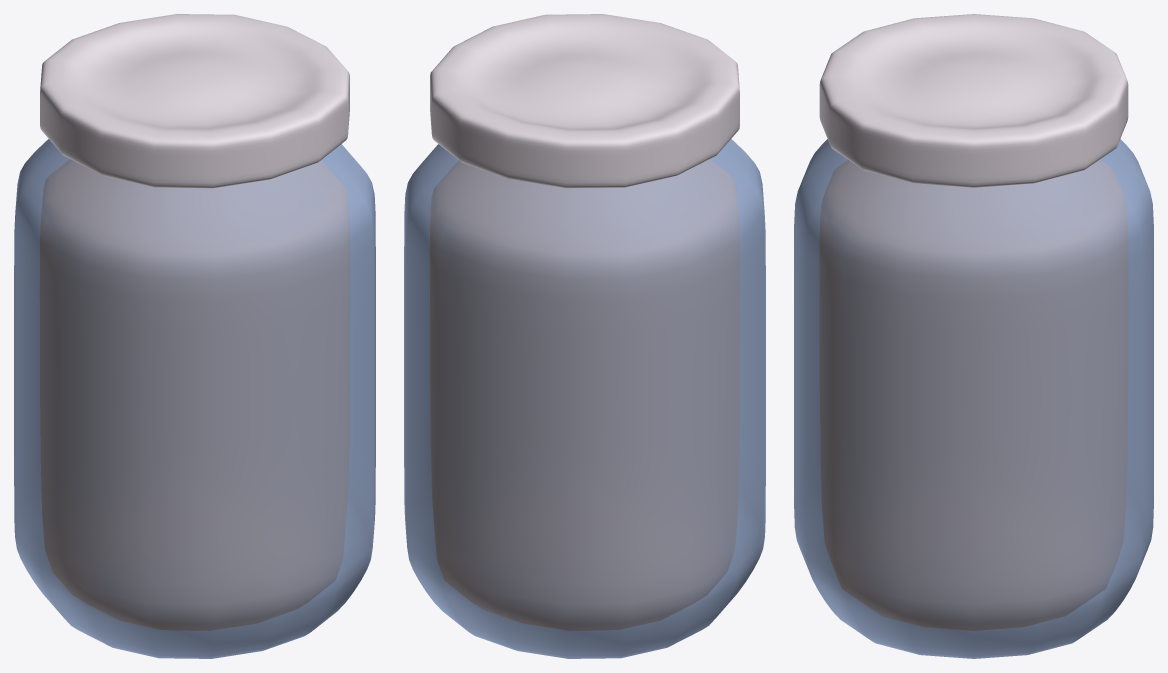
File: Mesh_Honey_Jar_001.fbx
The picture shows the model from 3 angles, left to right: view 1: azimuth 30°, elevation 25°; view 2: azimuth 150°, elevation 25°; view 3: azimuth 270°, elevation 25°; orthographic projection.
Visible parts, largest first — view 1: Mesh_Jar, Mesh_Jar_Honey; view 2: Mesh_Jar, Mesh_Jar_Honey; view 3: Mesh_Jar, Mesh_Jar_Honey.
Part boxes in pixels (bbox=[...]): Mesh_Jar: bbox=[14, 14, 375, 658]; Mesh_Jar_Honey: bbox=[40, 160, 349, 630]; Mesh_Jar: bbox=[404, 14, 765, 658]; Mesh_Jar_Honey: bbox=[430, 160, 739, 630]; Mesh_Jar: bbox=[794, 14, 1153, 658]; Mesh_Jar_Honey: bbox=[820, 160, 1127, 630].
Size of the model in its own units: 183 by 298 by 183.
